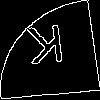K: (25, 24, 68, 74)
